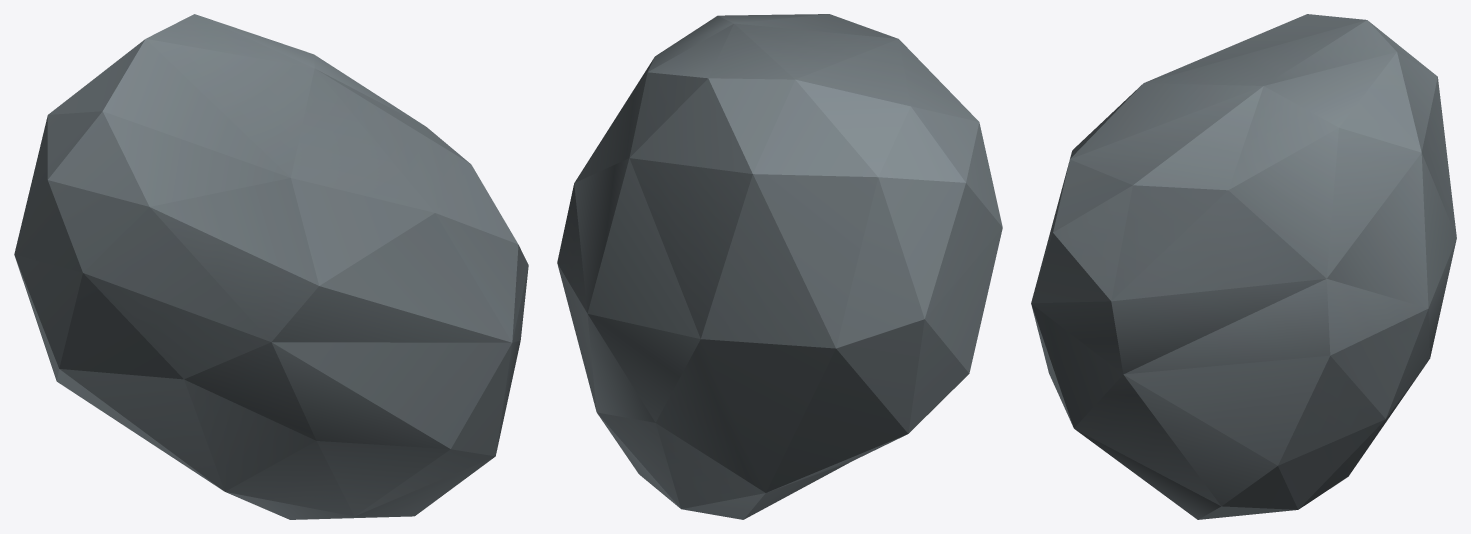
File: kf_rock_3_c.fbx
The picture shows the model from 3 angles, left to right: view 1: azimuth 30°, elevation 25°; view 2: azimuth 150°, elevation 25°; view 3: azimuth 270°, elevation 25°; orthographic projection. The views are drawn at different scales.
Visible parts, largest first — view 1: kf_rock_3_c; view 2: kf_rock_3_c; view 3: kf_rock_3_c.
Boxes of the visible parts, <box> form: kf_rock_3_c: <box>14,14,528,519</box>; kf_rock_3_c: <box>557,14,1002,519</box>; kf_rock_3_c: <box>1031,14,1456,519</box>.
Size of the model in its own units: 1.93 by 2.32 by 2.06.
Materials: 1 (1 with a texture image).
